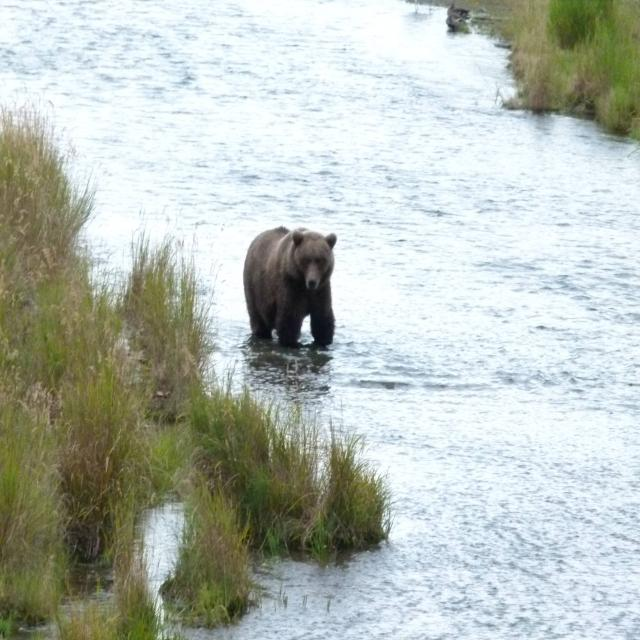bear face: (246, 233, 338, 341)
